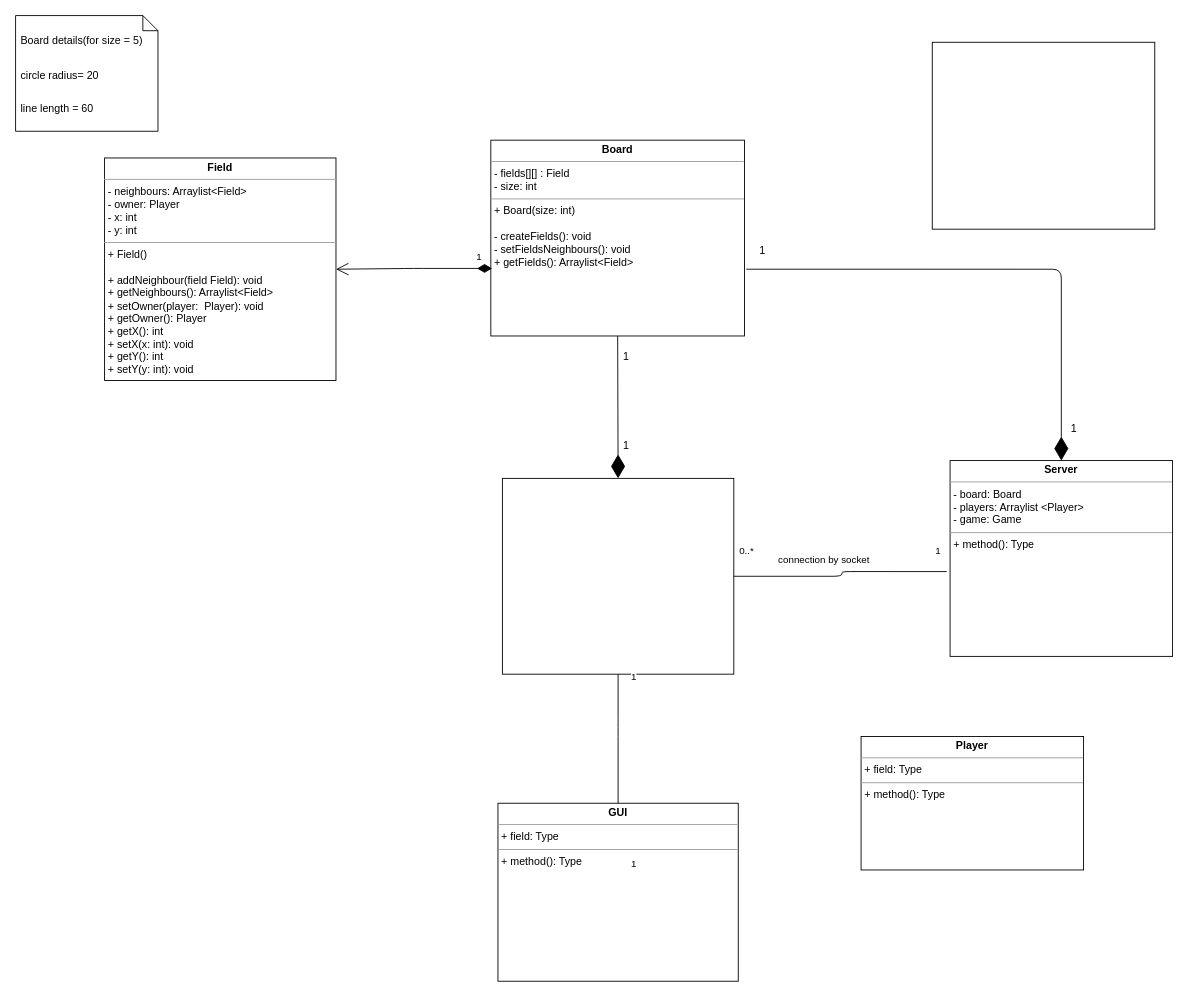
Image size: 1188x997. Some labels were removed from this diagram. Each missing label, with the centre of its shape:
"Client - board : Board + method(): Type" goes at point (618, 575).
"Game - fields : Arraylist <Field> + method(): Type" goes at point (1043, 135).
